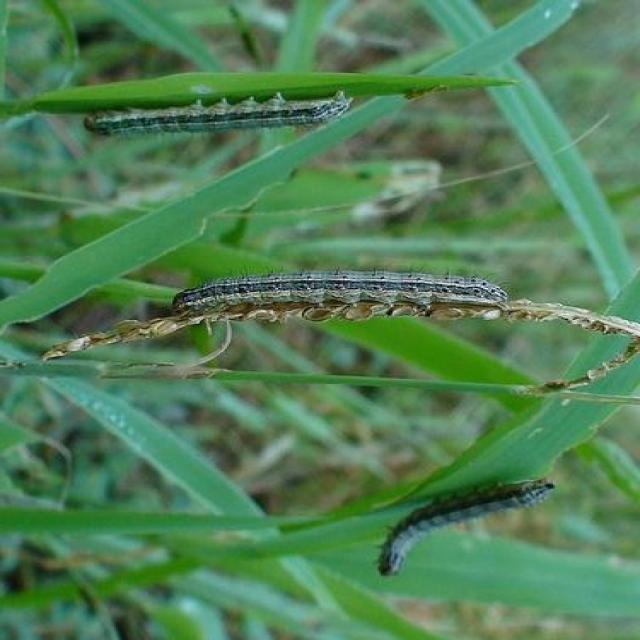army worm: (161, 269, 513, 333), (378, 474, 566, 584), (80, 89, 355, 151)
